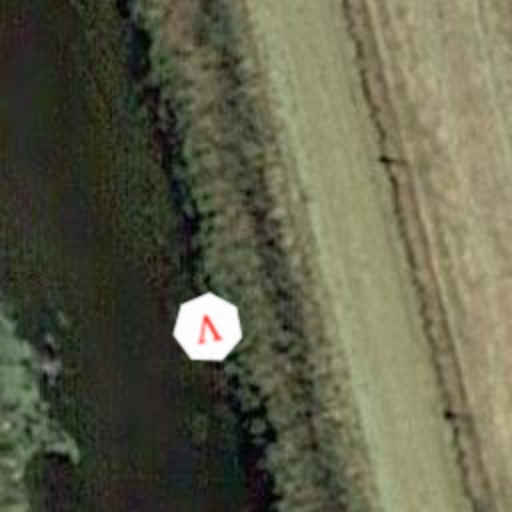heptagon: (166, 286, 250, 370)
